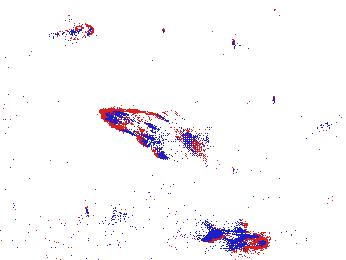X-ray fish: (79, 207, 141, 235)
red belly glassfish: (209, 226, 269, 249), (50, 22, 95, 43)
redtail glassfish: (95, 106, 199, 155), (311, 106, 346, 148)
